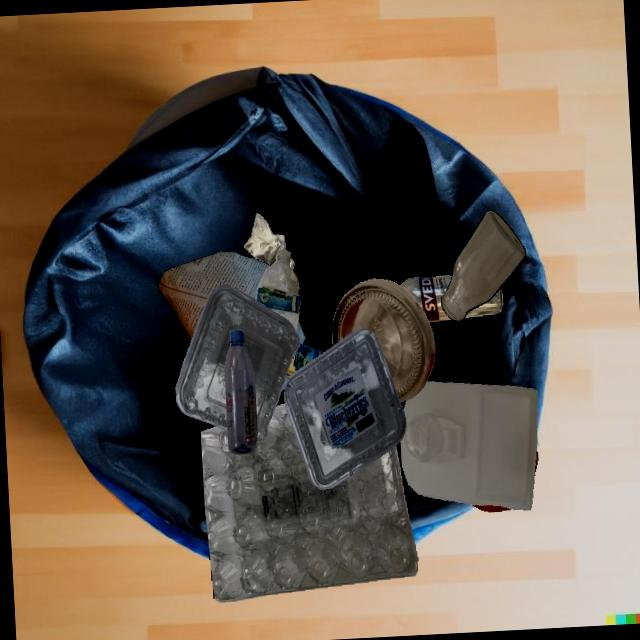glass: (332, 279, 435, 402), (441, 211, 525, 322), (400, 276, 452, 322), (286, 343, 324, 377), (464, 288, 503, 318)
paper: (200, 300, 298, 376), (157, 251, 271, 300), (244, 213, 286, 265)
plastic: (201, 403, 418, 602), (284, 328, 406, 490), (176, 284, 300, 441), (401, 381, 538, 510), (224, 330, 257, 454), (256, 249, 301, 331), (471, 504, 512, 512)
